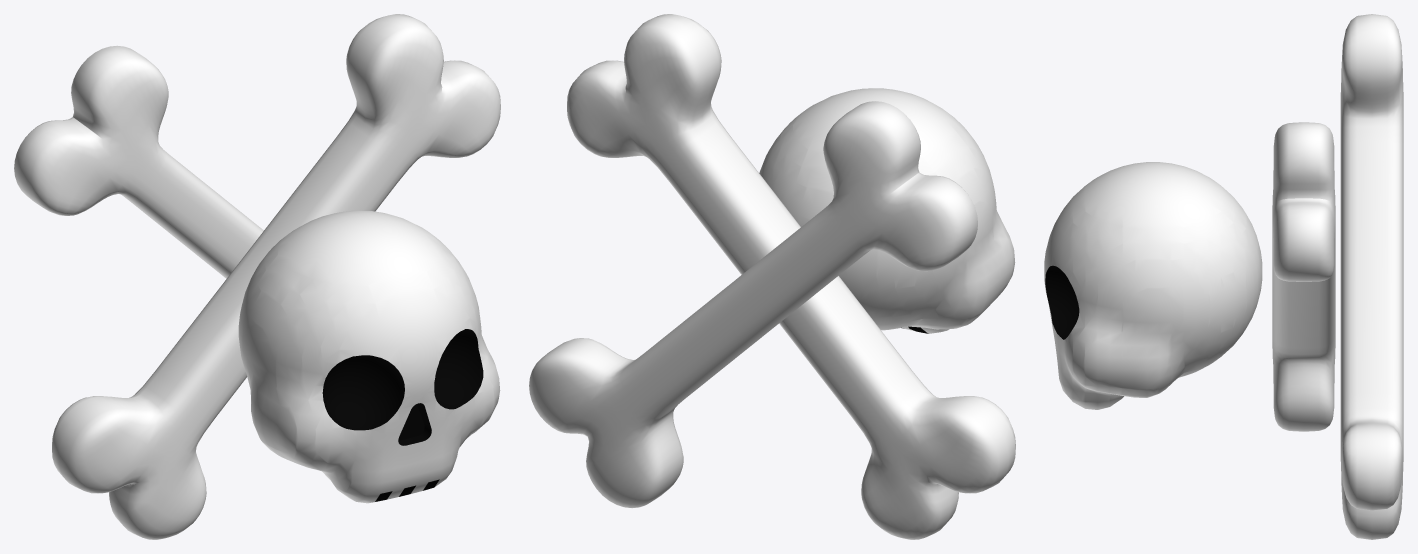
File: skull_and_crossbones.fbx
The picture shows the model from 3 angles, left to right: view 1: azimuth 30°, elevation 25°; view 2: azimuth 150°, elevation 25°; view 3: azimuth 270°, elevation 25°; orthographic projection. The views are drawn at different scales.
Visible parts, largest first — view 1: Skull and Crossbones; view 2: Skull and Crossbones; view 3: Skull and Crossbones.
Part boxes in pixels (x1,y1,x2,y2): Skull and Crossbones: (14, 14, 500, 539); Skull and Crossbones: (529, 14, 1015, 539); Skull and Crossbones: (1044, 14, 1403, 539).
Bounding box in the file's own units: 238 × 238 × 189.
Materials: 1 (1 with a texture image).
